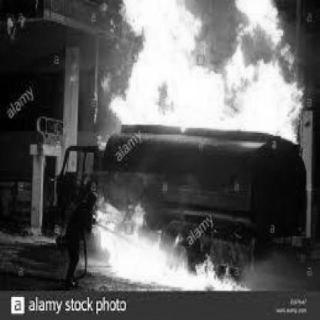Fire: (104, 0, 304, 143), (96, 192, 250, 292)
